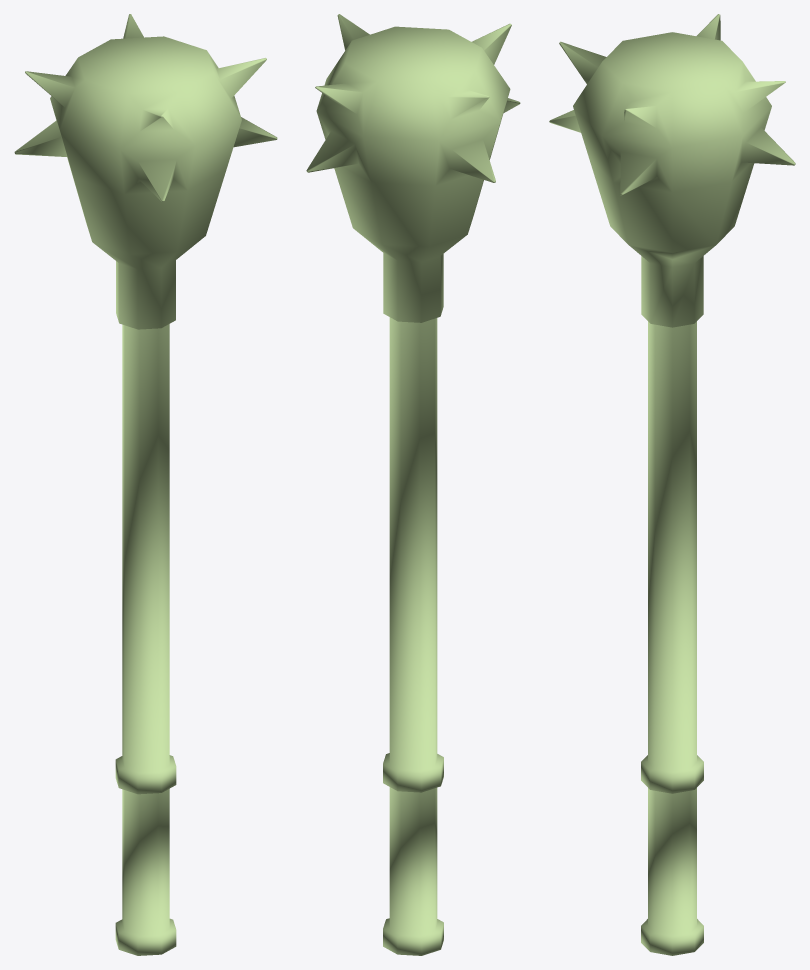
File: Darkbubulle Mace.obj
3 renders of one model, left to right at view 1: azimuth 30°, elevation 25°; view 2: azimuth 150°, elevation 25°; view 3: azimuth 270°, elevation 25°, orthographic.
Visible parts, largest first — view 1: Boule; view 2: Boule; view 3: Boule.
Part boxes in pixels (left/top/right/bottom): Boule: left=14, top=14, right=277, bottom=955; Boule: left=306, top=14, right=520, bottom=955; Boule: left=549, top=14, right=795, bottom=955.
Size of the model in its own units: 20.67 by 81.57 by 20.67.
